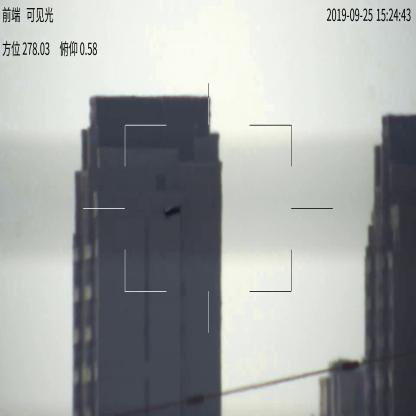uav: (163, 206, 180, 219)
